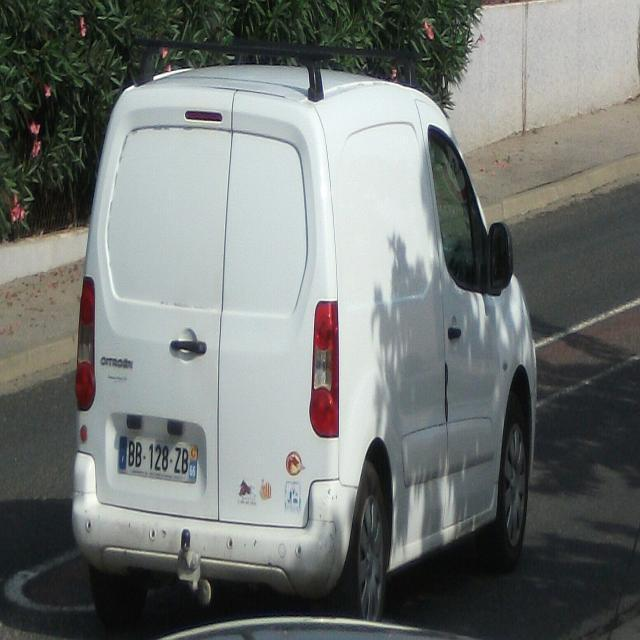EU: (117, 437, 199, 483)
France: (118, 436, 127, 471)
